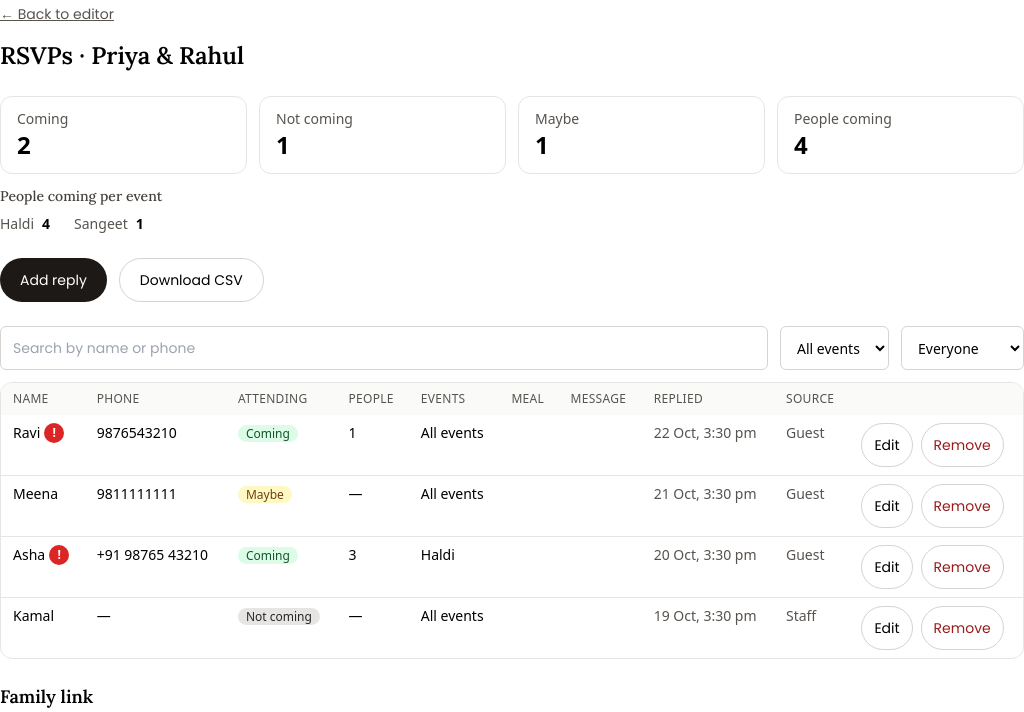
it: RsvpPage › adds a reply taken by phone (phone optional)
Click the button "Add reply" at (53, 280), box [0,258,107,302]
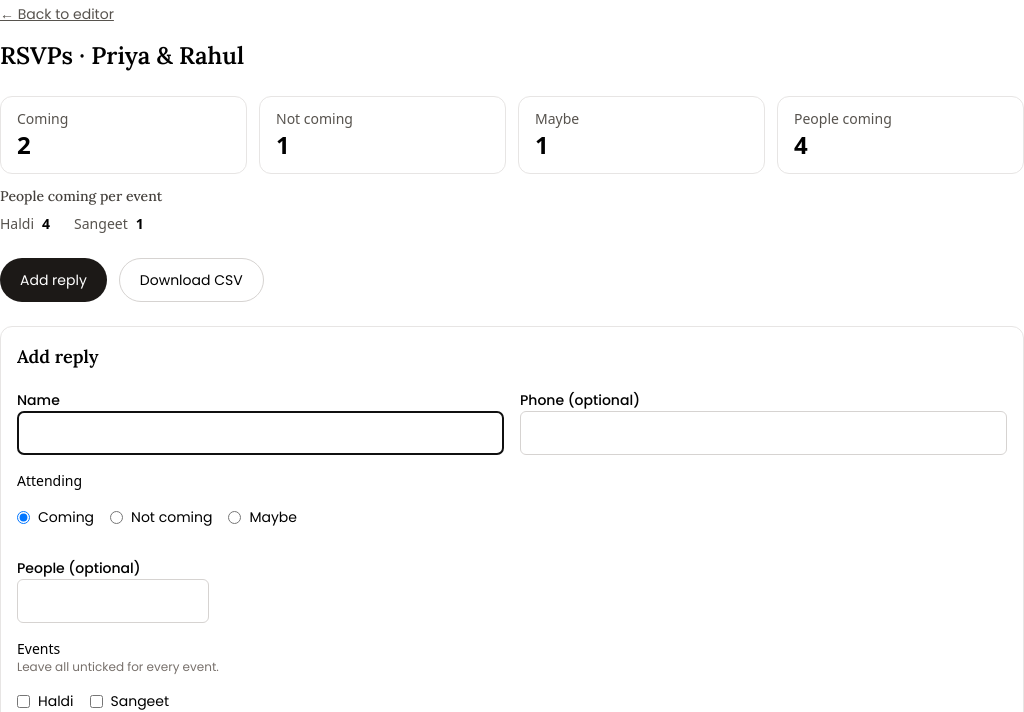
Type "Gopal" into the field labelled "Name" at (260, 433), box [17,411,504,455]
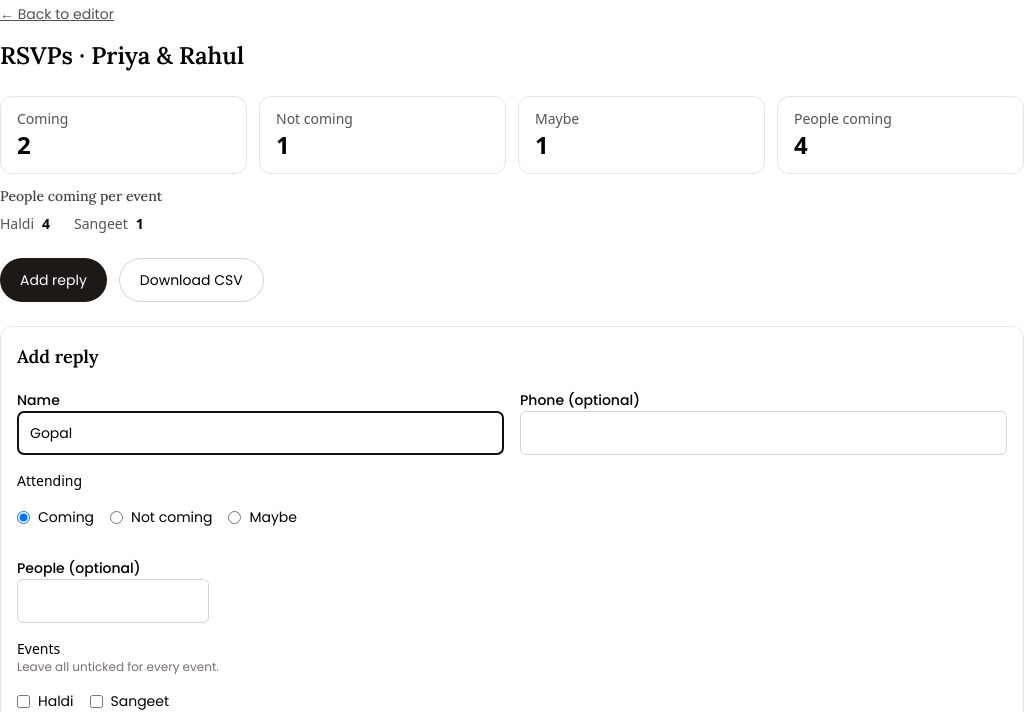
Type "2" into the number field labelled "People (optional)" at (113, 601), box [17,579,209,623]
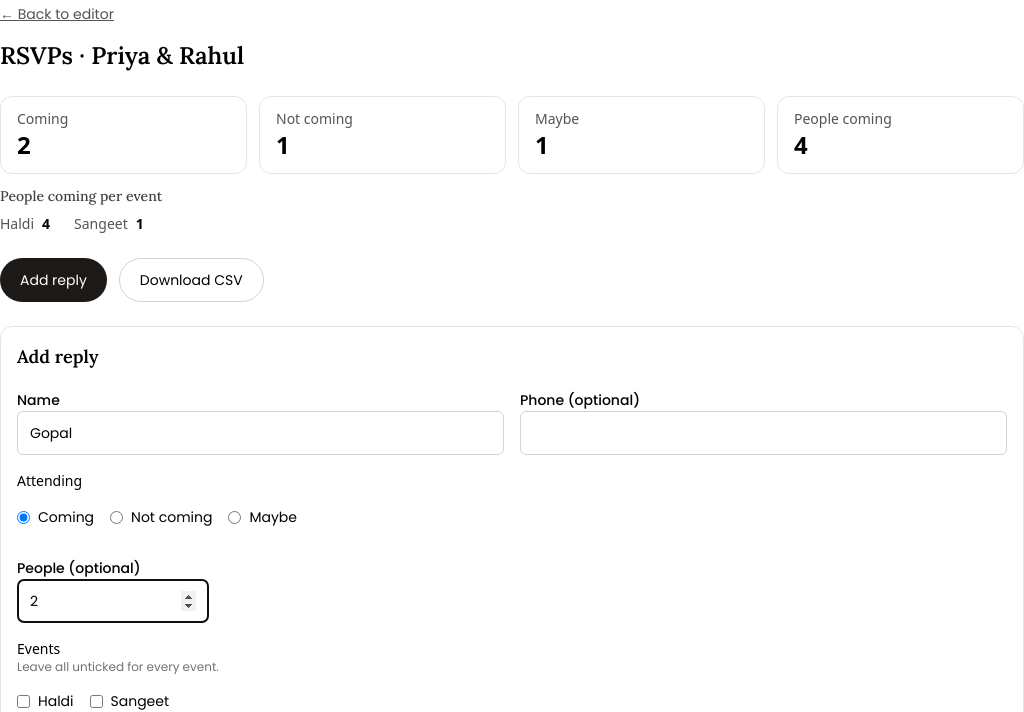
Click the checkbox labelled "Sangeet" at (96, 701), box [90,694,102,708]
(page scrolled)
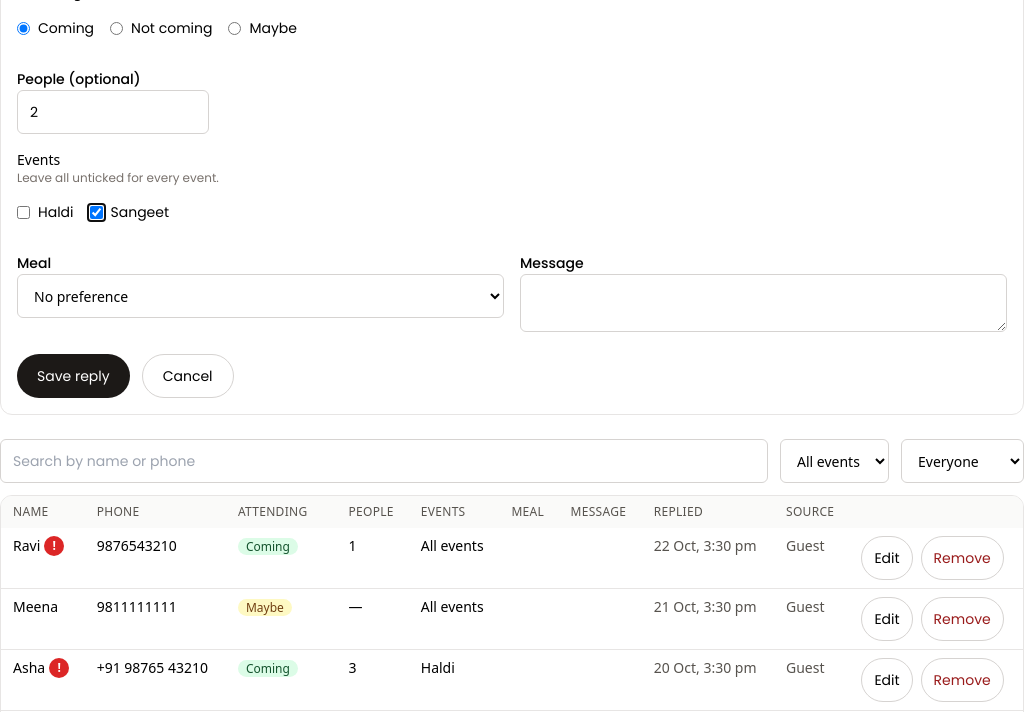
Click the button "Save reply" at (73, 376), box [17,354,130,398]
(page scrolled)
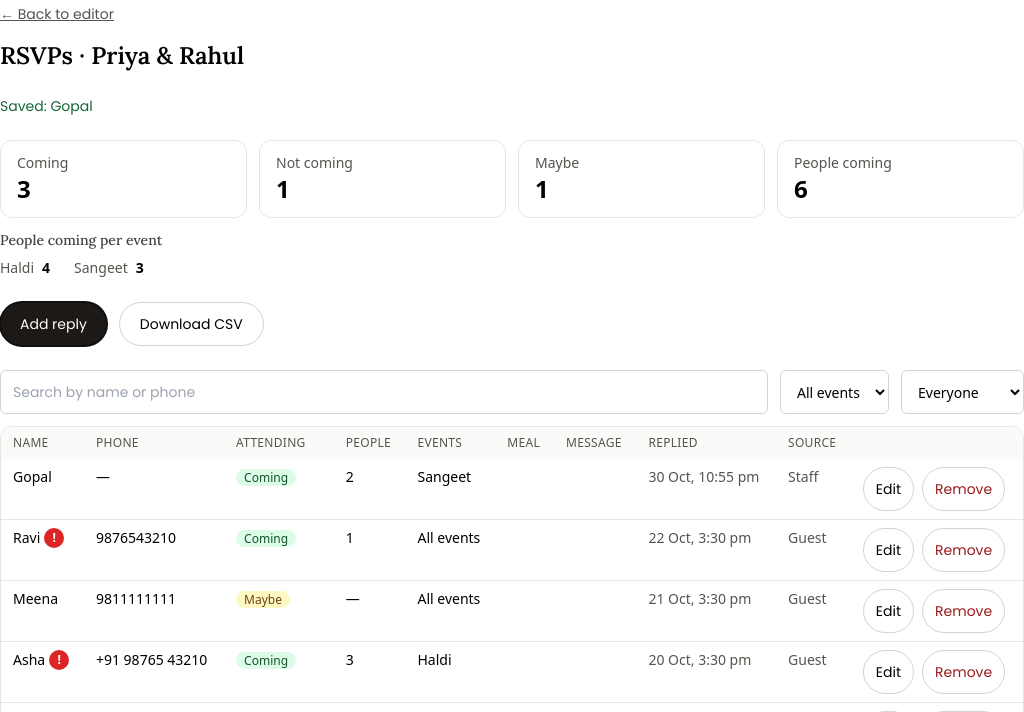
Expected: the message reads "Saved: Gopal", [0,96,93,116]
